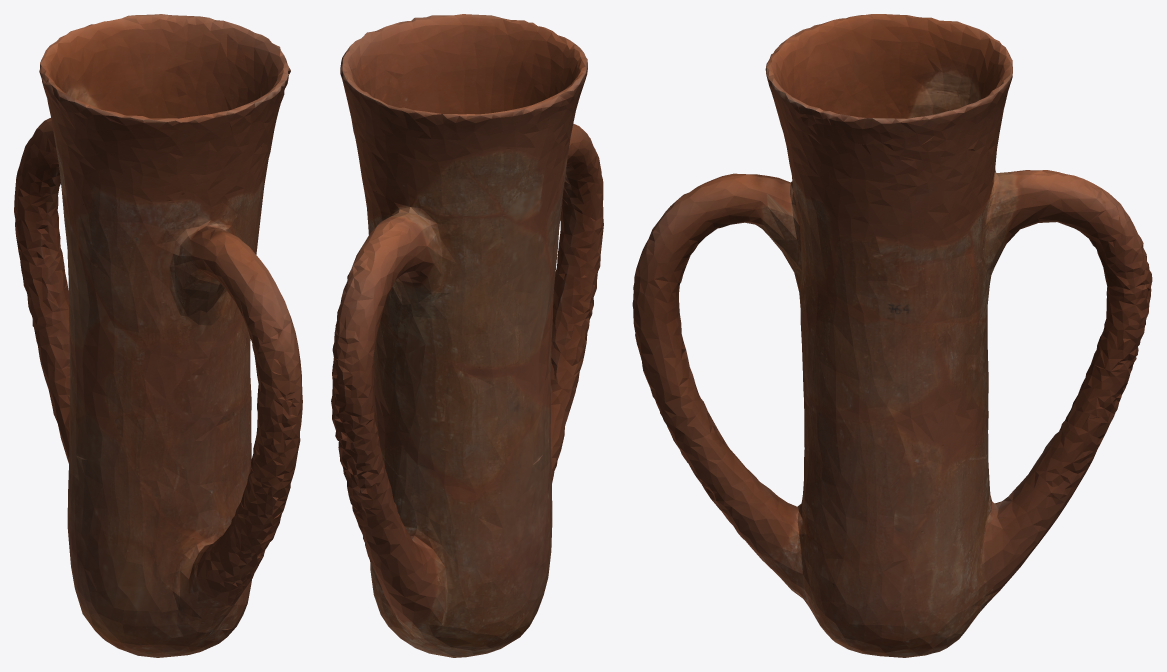
The model's file is KLA-Or-764.fbx.
3 views of the same model, side by side, from view 1: azimuth 30°, elevation 25°; view 2: azimuth 150°, elevation 25°; view 3: azimuth 270°, elevation 25° (orthographic).
Visible parts, largest first — view 1: KLA-Or-764; view 2: KLA-Or-764; view 3: KLA-Or-764.
Part boxes in pixels (x1=…): KLA-Or-764: x1=14, y1=14, x2=302, y2=657; KLA-Or-764: x1=331, y1=14, x2=603, y2=657; KLA-Or-764: x1=632, y1=14, x2=1152, y2=657.
Size of the model in its own units: 224 by 573 by 467.
